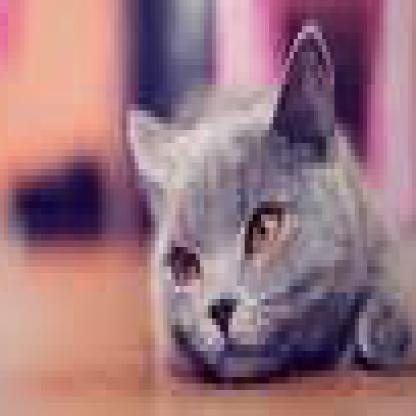cat: (126, 26, 412, 384)
